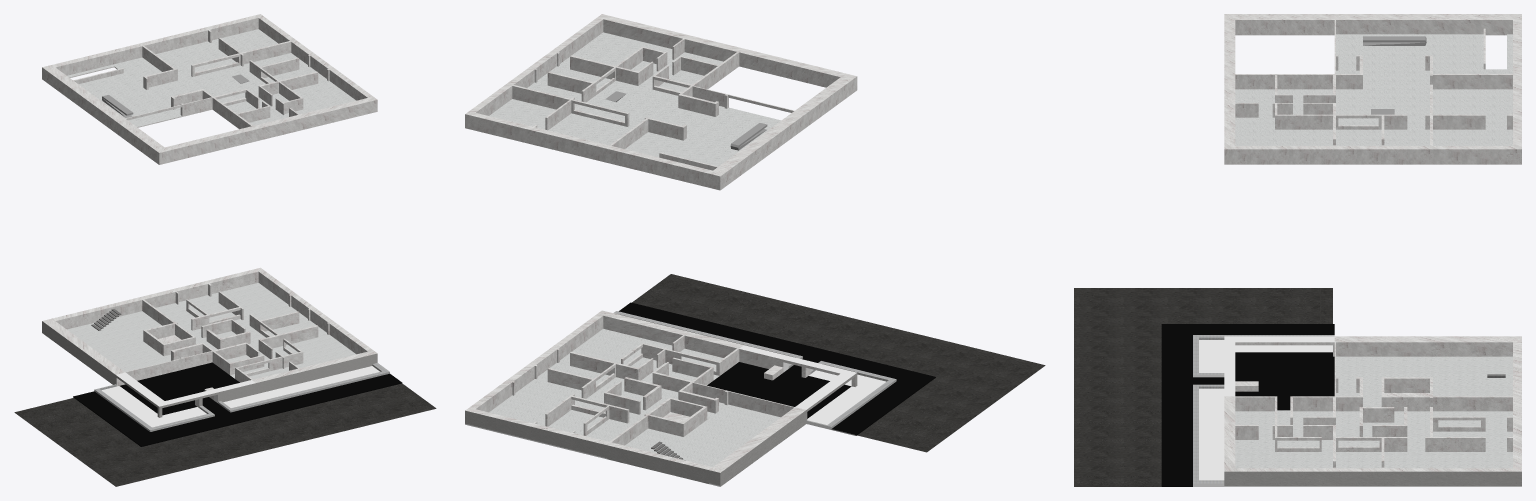
The model's file is LabBeta3.0.fbx.
3 views of the same model, side by side, from view 1: azimuth 30°, elevation 25°; view 2: azimuth 150°, elevation 25°; view 3: azimuth 270°, elevation 25° (orthographic). The views are drawn at different scales.
Parts seen in each view (by area): view 1: Floor, Floor1; view 2: Floor, Floor1; view 3: Floor, Floor1.
Boxes of the visible parts, <box> form: Floor: <box>14,267,436,486</box>; Floor1: <box>42,14,377,164</box>; Floor: <box>465,274,1045,486</box>; Floor1: <box>465,14,857,190</box>; Floor: <box>1074,288,1521,486</box>; Floor1: <box>1224,14,1521,164</box>.
Size of the model in its own units: 376 by 298 by 358.
Materials: 11 (6 with a texture image).
